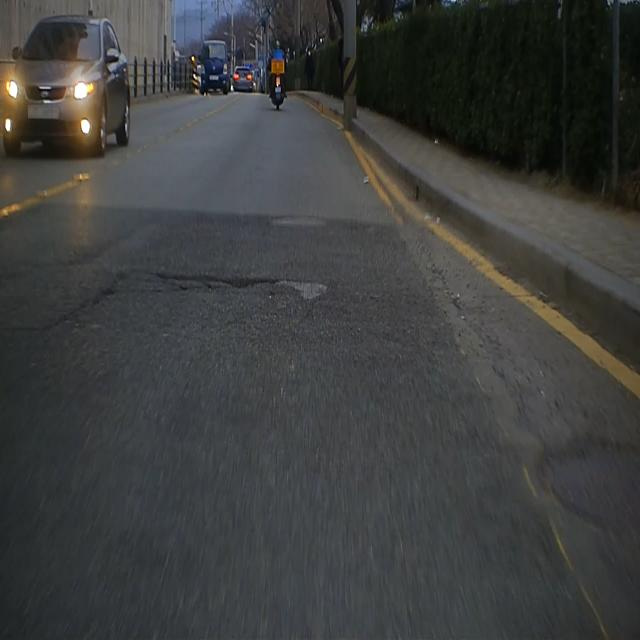Pothole: (84, 261, 329, 315)
